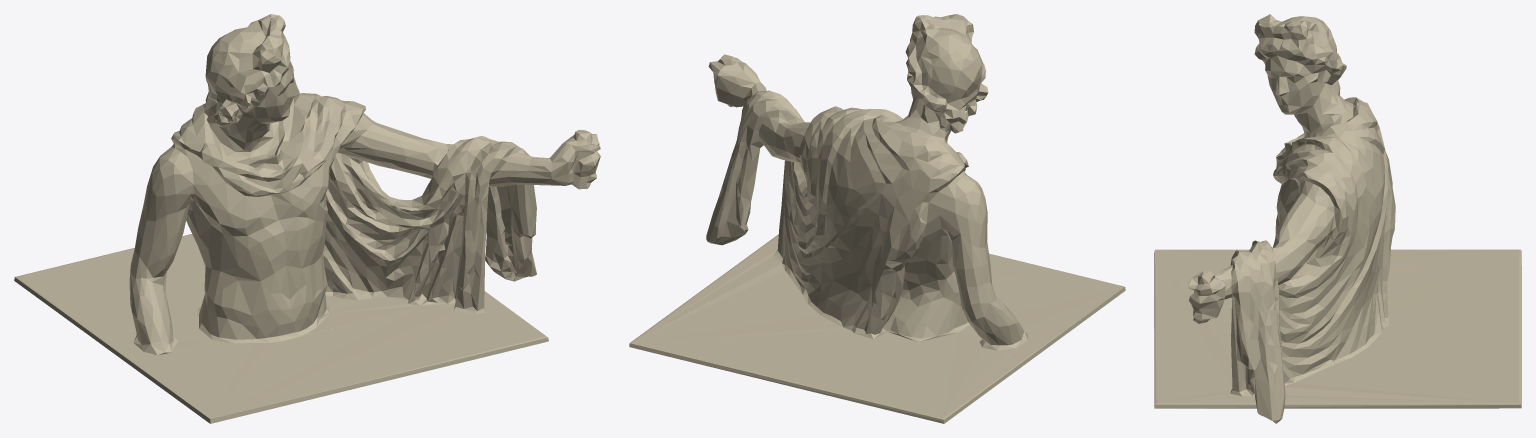
File: apollo_modified.glb
3 views of the same model, side by side, from view 1: azimuth 30°, elevation 25°; view 2: azimuth 150°, elevation 25°; view 3: azimuth 270°, elevation 25° (orthographic). The views are drawn at different scales.
Parts seen in each view (by area): view 1: apollo; view 2: apollo; view 3: apollo.
Boxes of the visible parts, x1,y1,x2,y2 form: apollo: (14,14,600,423); apollo: (629,14,1125,423); apollo: (1154,14,1521,423).
Size of the model in its own units: 1.57 by 1.14 by 1.27.
